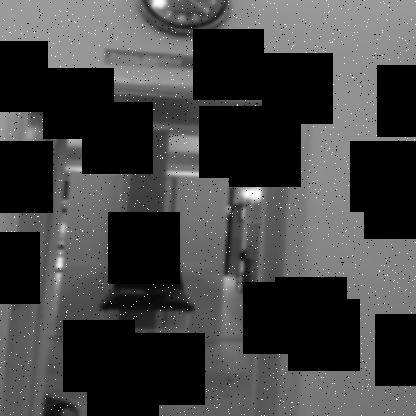Porte: (2, 64, 315, 415)
